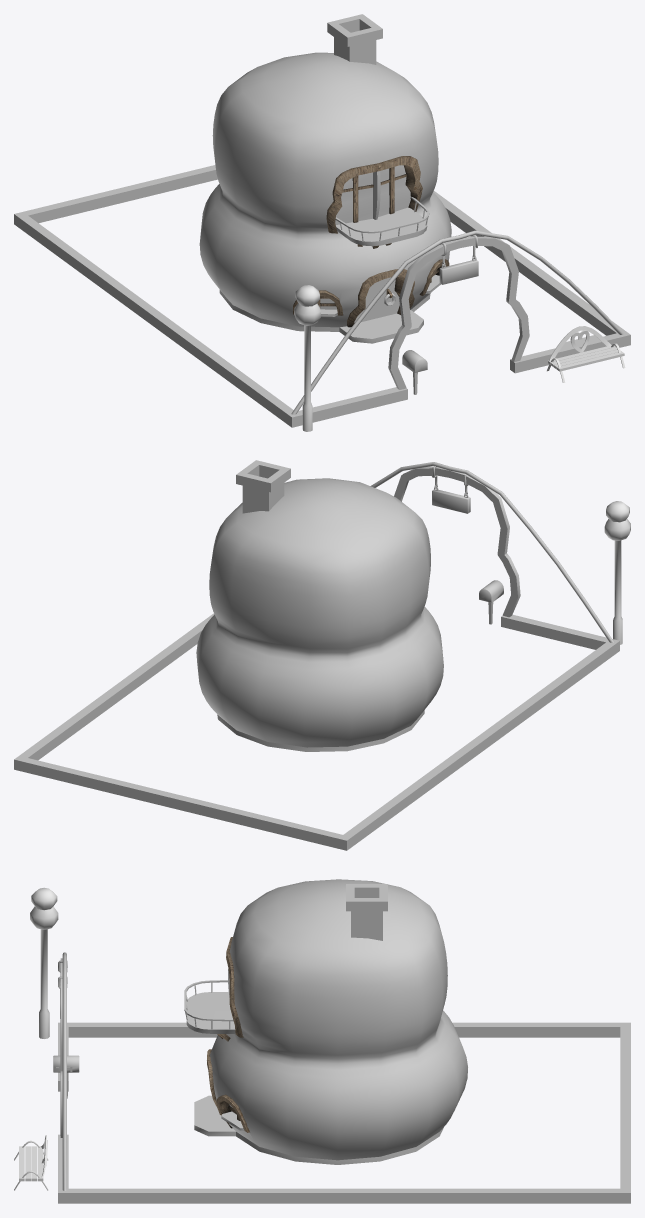
The model's file is house and props.fbx.
3 renders of one model, top to bottom at view 1: azimuth 30°, elevation 25°; view 2: azimuth 150°, elevation 25°; view 3: azimuth 270°, elevation 25°, orthographic. The views are drawn at different scales.
Parts seen in each view (by area): view 1: house, fence, bench, bulb, street_lamp; view 2: house, fence, bulb, street_lamp; view 3: house, fence, bench, bulb, street_lamp.
Boxes of the visible parts, x1,y1,x2,y2 form: house: (199,14,451,343); fence: (14,165,630,427); bench: (547,326,625,382); bulb: (294,285,320,325); street_lamp: (302,325,312,431); house: (196,460,443,751); fence: (14,462,619,850); bulb: (604,501,630,540); street_lamp: (613,540,622,644); house: (184,879,467,1164); fence: (58,952,630,1203); bench: (14,1135,48,1190); bulb: (30,887,58,929); street_lamp: (39,928,49,1038).
Size of the model in its own units: 3834 by 2581 by 5816.
